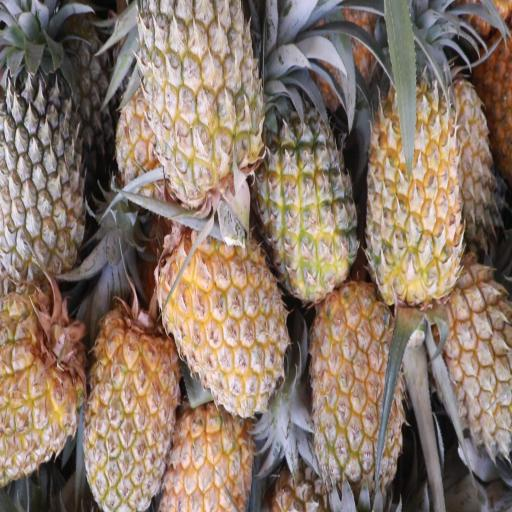------------------------------: (135, 0, 265, 213), (250, 55, 360, 300)
Pineapple - v8 v1: (362, 20, 468, 320), (154, 211, 293, 431), (304, 271, 406, 512), (80, 286, 182, 507), (0, 273, 87, 492), (435, 242, 512, 474)
